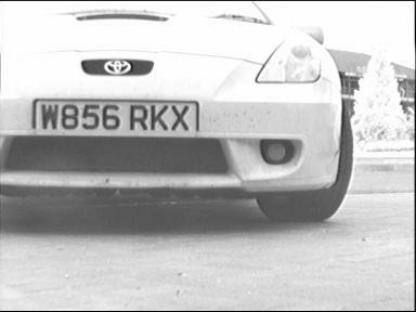license plate: (30, 92, 202, 140)
